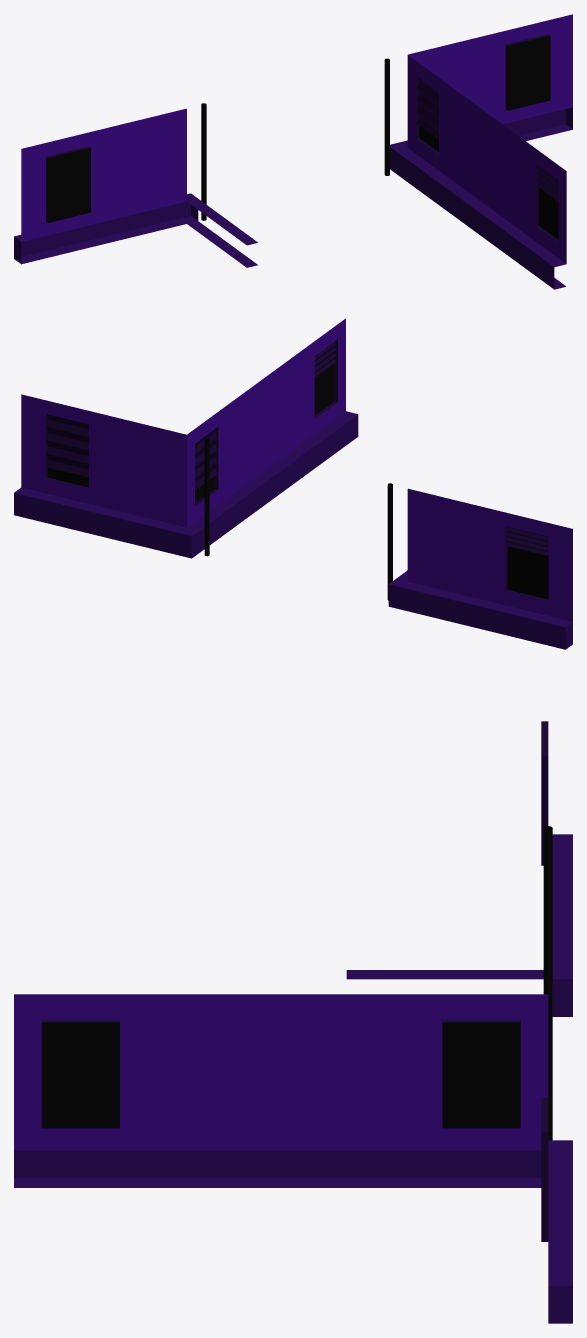
File: RunnablePartHole4.fbx
3 views of the same model, one above another, from view 1: azimuth 30°, elevation 25°; view 2: azimuth 150°, elevation 25°; view 3: azimuth 270°, elevation 25° (orthographic). The views are drawn at different scales.
Visible parts, largest first — view 1: Plane.012; view 2: Plane.012; view 3: Plane.012.
Part boxes in pixels (left/top/right/bottom): Plane.012: left=14, top=14, right=572, bottom=289; Plane.012: left=14, top=318, right=572, bottom=649; Plane.012: left=14, top=721, right=572, bottom=1323.
Size of the model in its own units: 10000 by 2000 by 5232.
